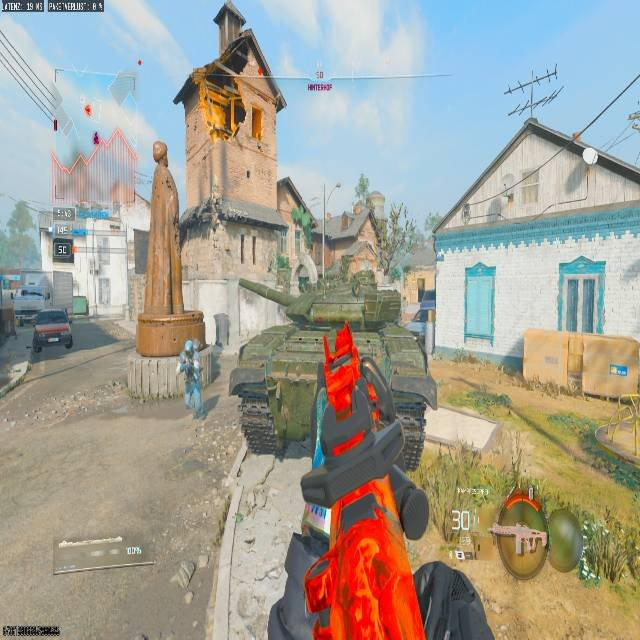head: (183, 340, 195, 353)
player: (176, 342, 204, 412)
